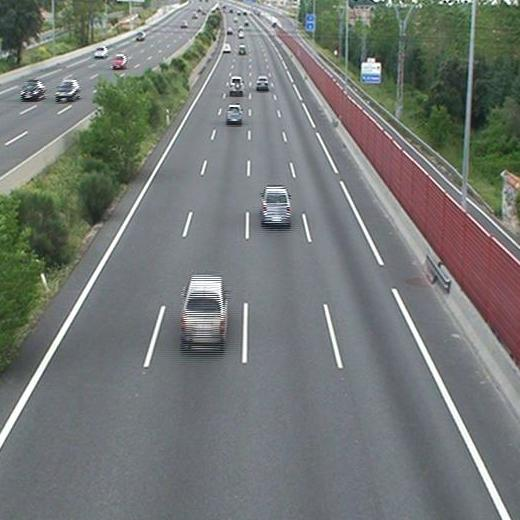car: (181, 277, 226, 342), (261, 188, 290, 223), (226, 106, 243, 123), (230, 77, 243, 95), (256, 77, 269, 90), (237, 44, 246, 55), (222, 44, 231, 53)
